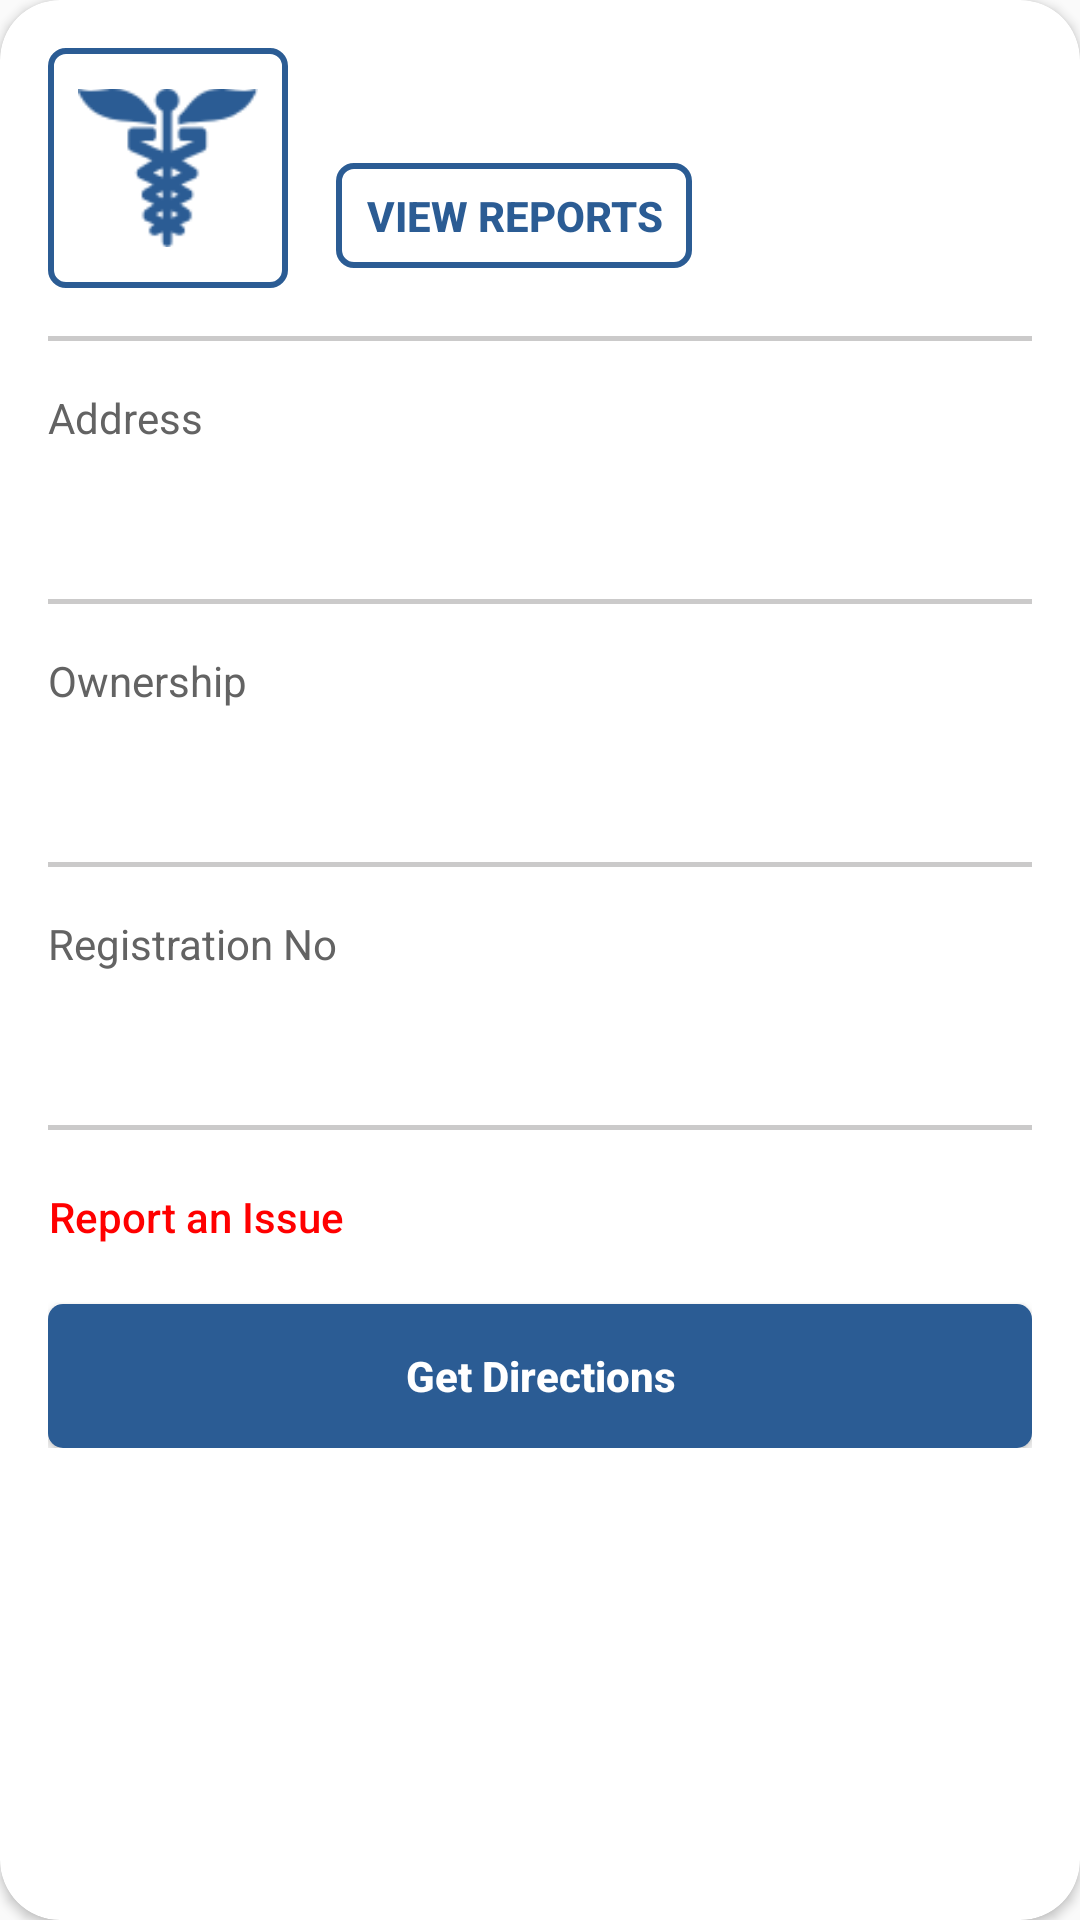

Locate icon controls on the screen. Image size 1080 × 1920, boxes as [x1=x1, y1=y1, x2=x2, y2=y2].
caduceus: [x1=48, y1=48, x2=288, y2=288]
